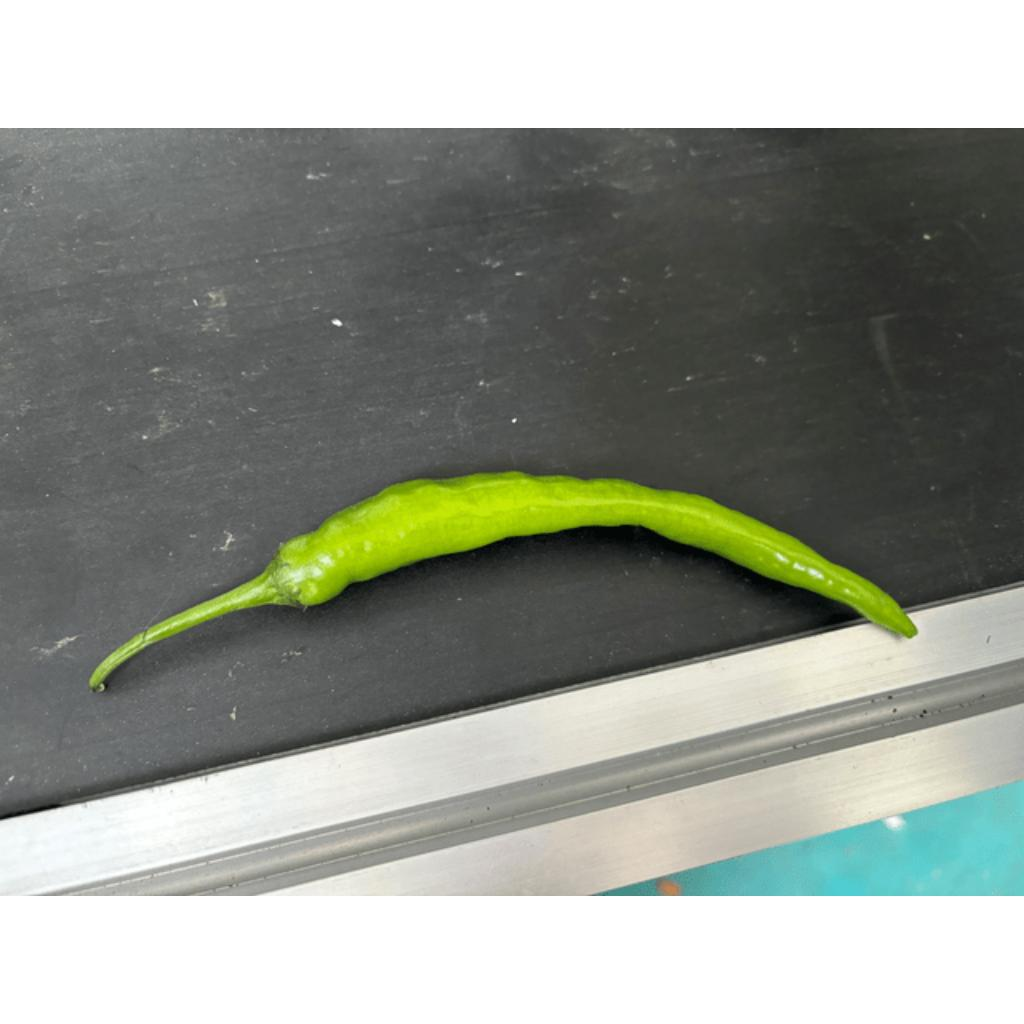chili: (254, 470, 921, 642)
